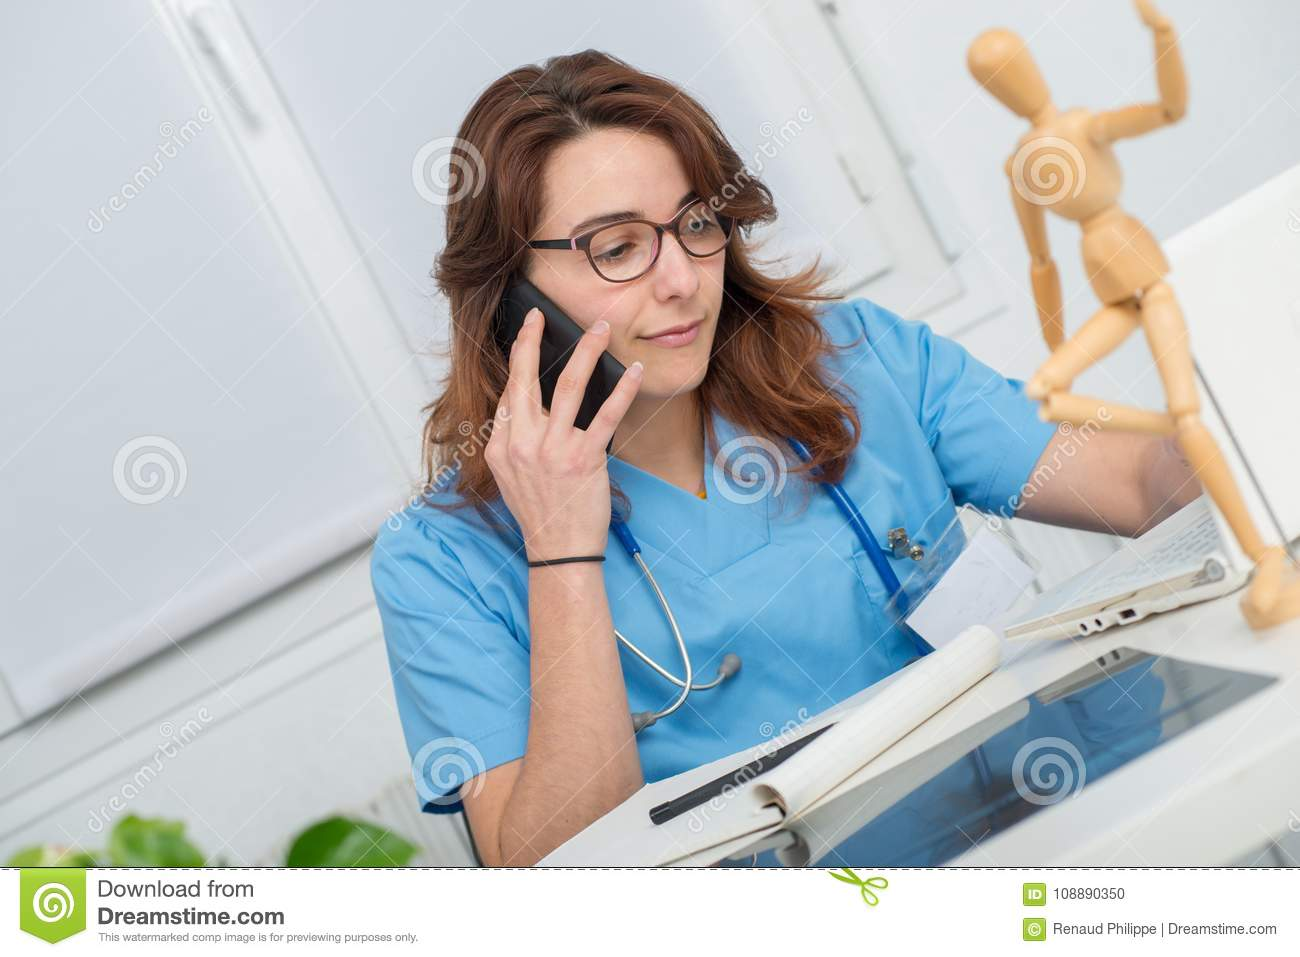phone: (486, 271, 638, 465)
talk: (478, 180, 733, 569)
